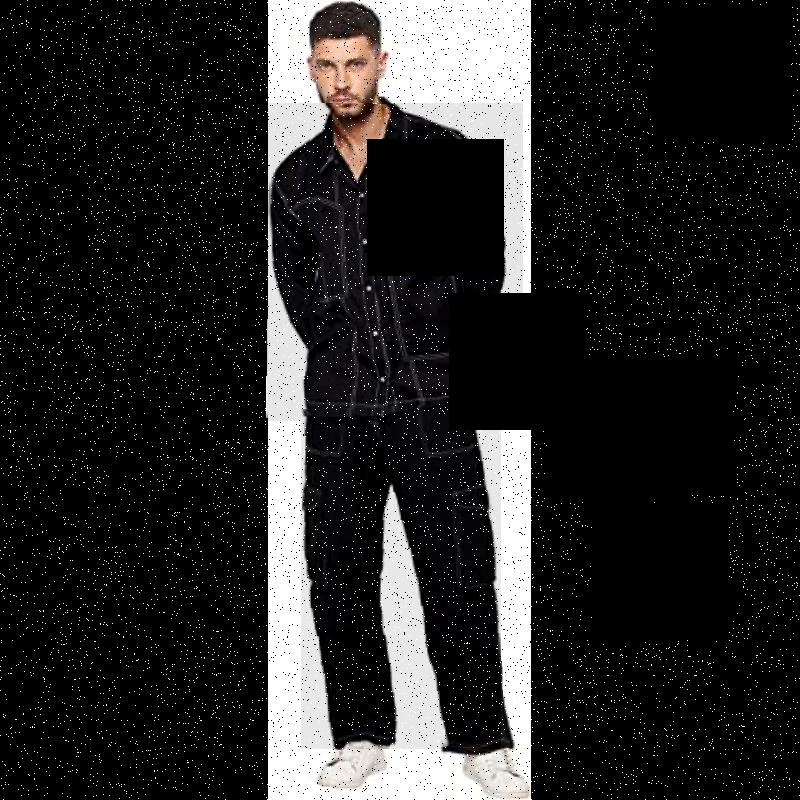Jeans: (301, 405, 501, 749)
Shirt: (267, 103, 523, 421)
